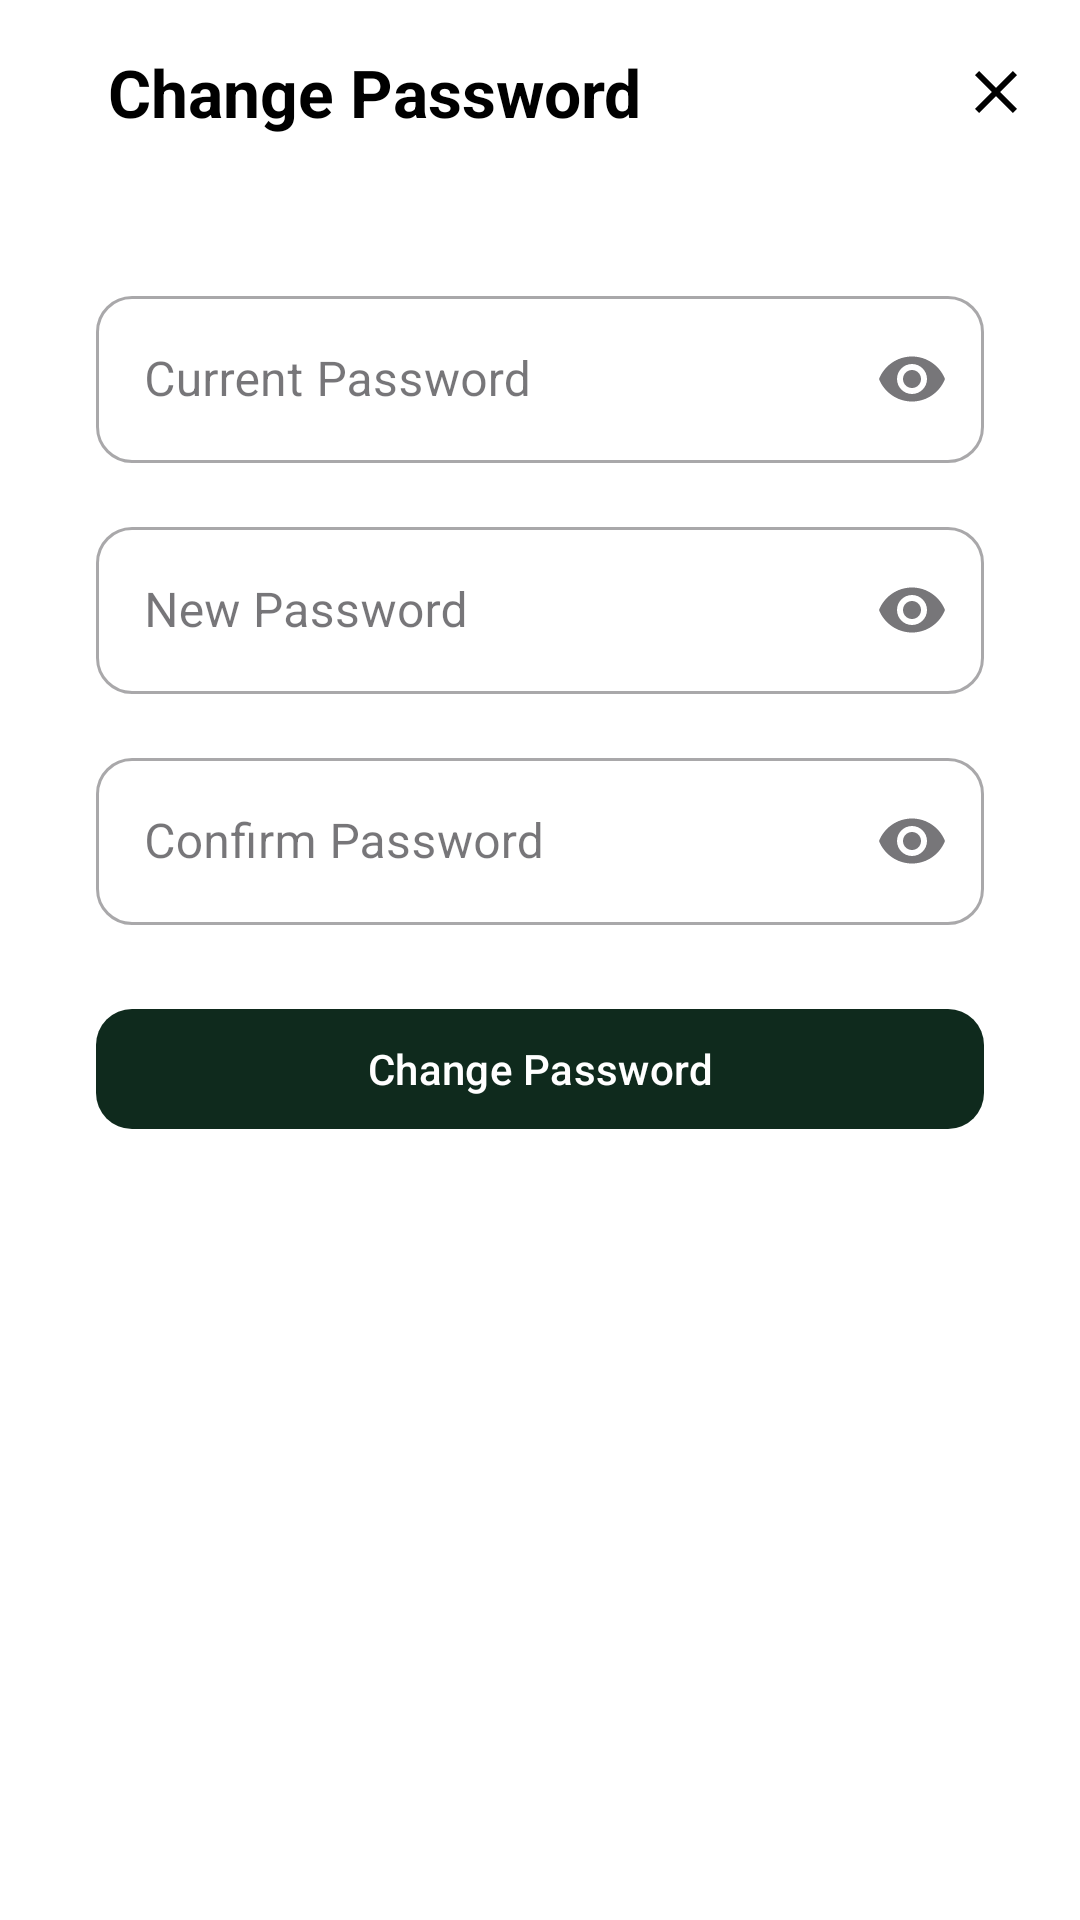

Icon bounding boxes for this 1080 × 1920 phone screenshot, format bbox=(x1, y1, x2, y2):
close: bbox=(975, 71, 1017, 113)
